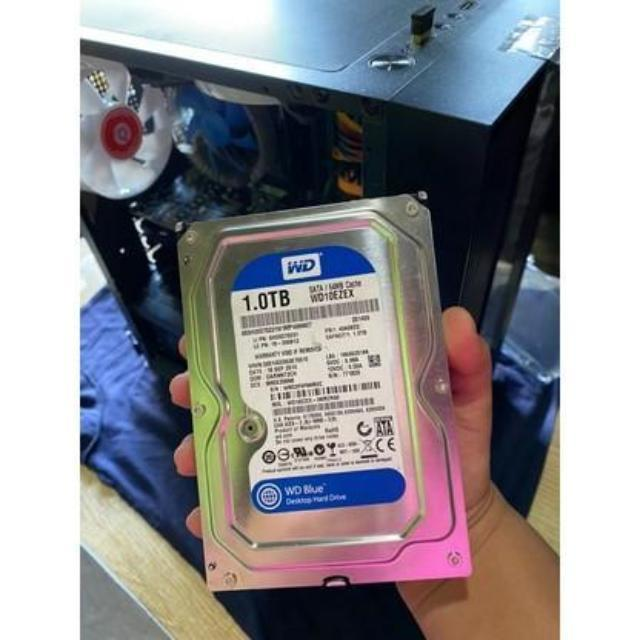DISK: (166, 199, 478, 590)
